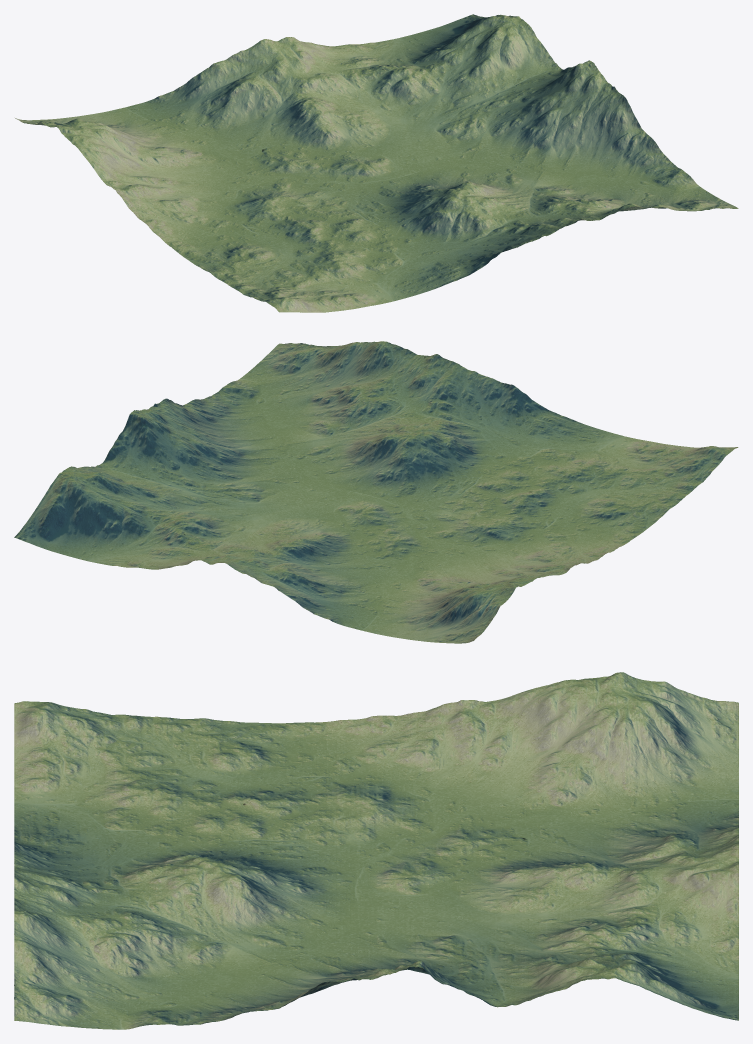
The model's file is Flat.fbx.
3 renders of one model, top to bottom at view 1: azimuth 30°, elevation 25°; view 2: azimuth 150°, elevation 25°; view 3: azimuth 270°, elevation 25°, orthographic. The views are drawn at different scales.
Visible parts, largest first — view 1: Grid; view 2: Grid; view 3: Grid.
Part boxes in pixels (x1,y1,x2,y2): Grid: (15, 14, 738, 312); Grid: (14, 341, 738, 643); Grid: (14, 672, 738, 1029).
Size of the model in its own units: 1000 by 100 by 1000.
